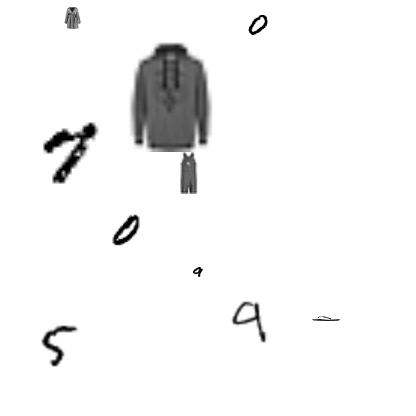0: (105, 209, 147, 251), (244, 11, 272, 39)
5: (28, 314, 84, 370)
7: (26, 105, 110, 189)
9: (221, 290, 277, 346), (191, 264, 205, 278)
Dress: (61, 7, 83, 29)
Pullover: (115, 40, 227, 152)
Sandal: (312, 304, 340, 332)
Trouser: (167, 152, 209, 194)
